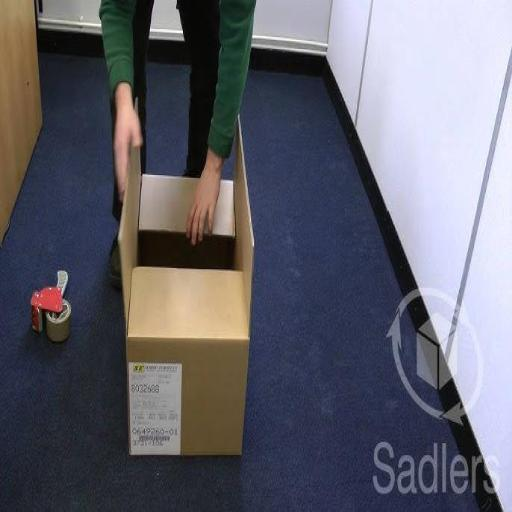cardboard: (117, 97, 255, 457)
